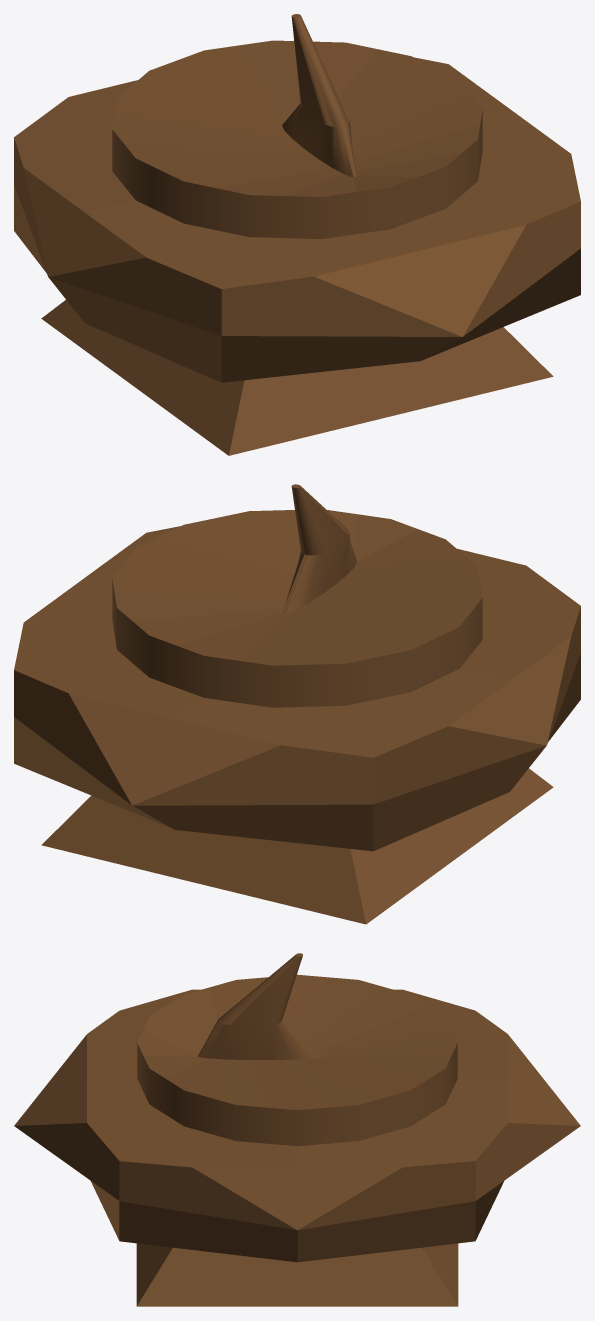
Rendered from Sun Dial Okay.fbx.
The picture shows the model from 3 angles, top to bottom: view 1: azimuth 30°, elevation 25°; view 2: azimuth 150°, elevation 25°; view 3: azimuth 270°, elevation 25°; orthographic projection. The views are drawn at different scales.
Visible parts, largest first — view 1: pCube2; view 2: pCube2; view 3: pCube2.
Part boxes in pixels (left/top/right/bottom): pCube2: left=14, top=14, right=580, bottom=455; pCube2: left=14, top=484, right=580, bottom=924; pCube2: left=14, top=953, right=580, bottom=1306.
Bounding box in the file's own units: 69.36 × 43.98 × 79.62.
1 material, 1 textured.
